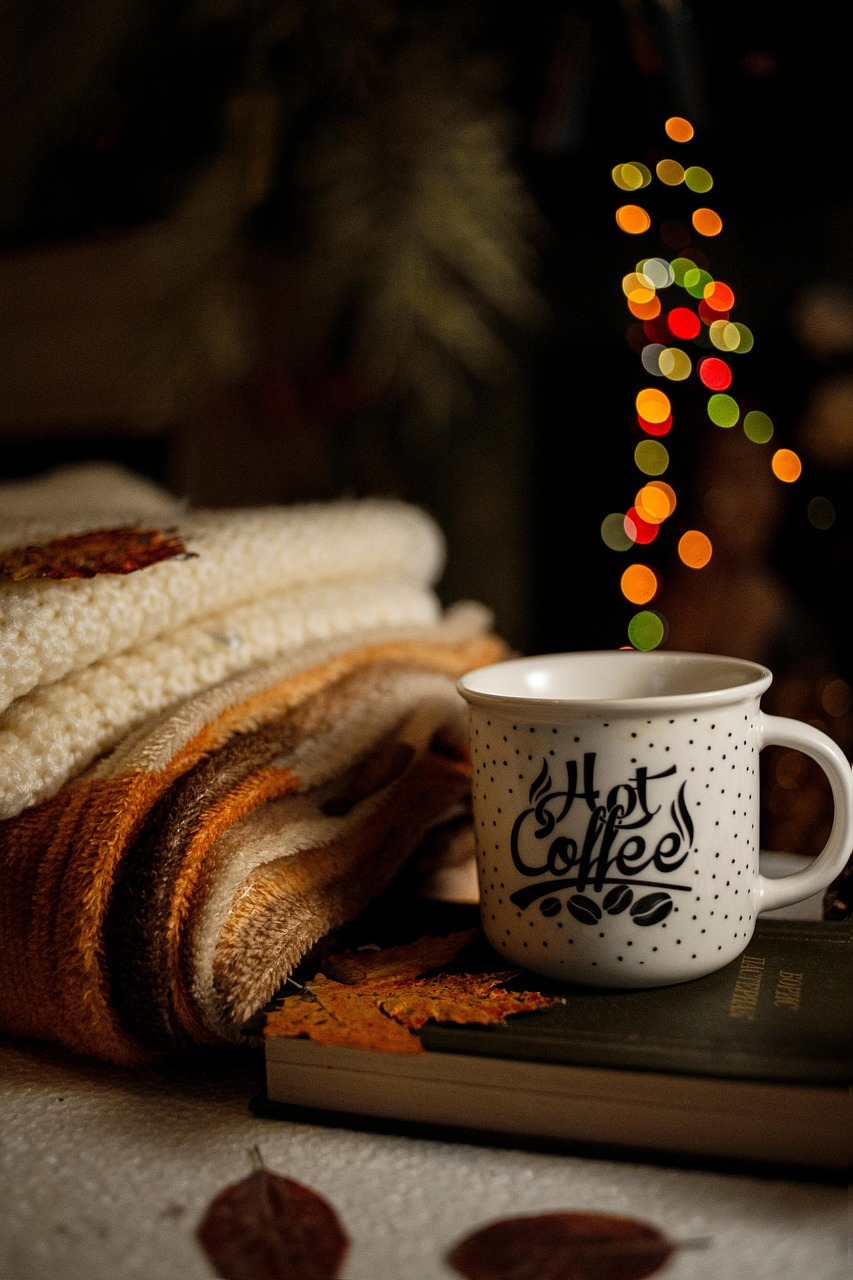mug: (412, 647, 853, 984)
